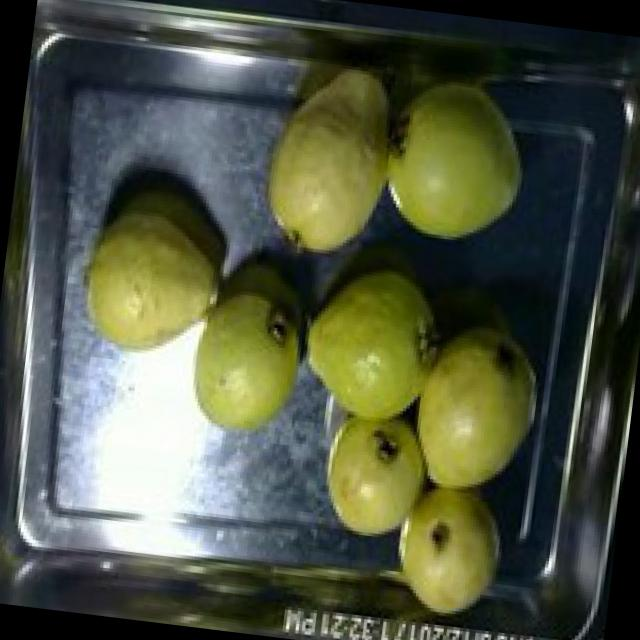Fruit: (61, 156, 254, 377), (237, 42, 400, 275), (383, 302, 559, 508), (378, 65, 542, 258), (290, 254, 452, 446), (168, 262, 312, 449), (380, 468, 520, 632)
